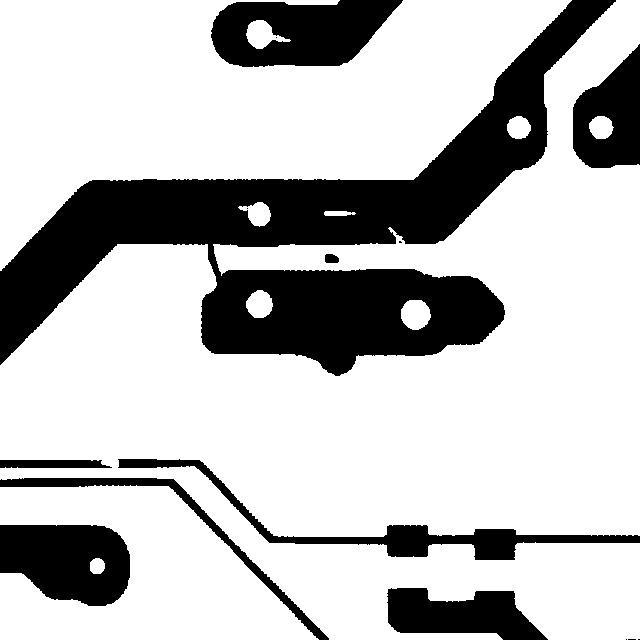copper: (315, 244, 348, 272)
mousebite: (378, 217, 414, 255), (255, 25, 300, 51), (228, 195, 262, 220)
open: (91, 445, 128, 477)
pin-hole: (314, 201, 365, 225)
short: (198, 233, 232, 292)
